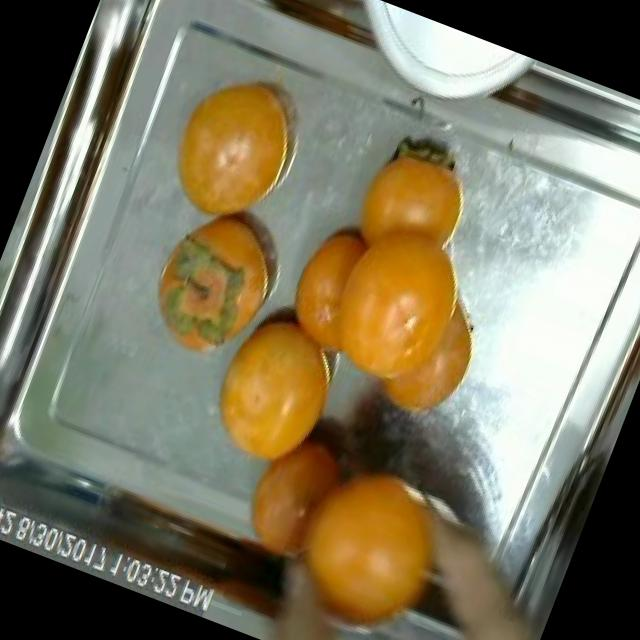Fruit: (186, 296, 359, 491), (129, 186, 299, 380), (148, 53, 318, 246)
